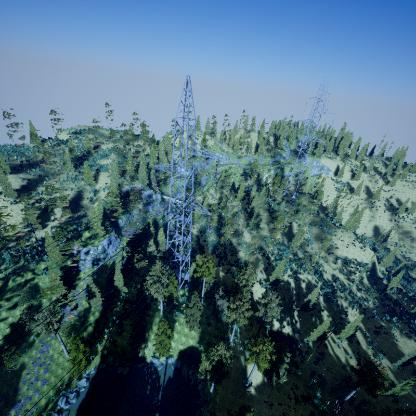tower: (151, 72, 220, 293)
